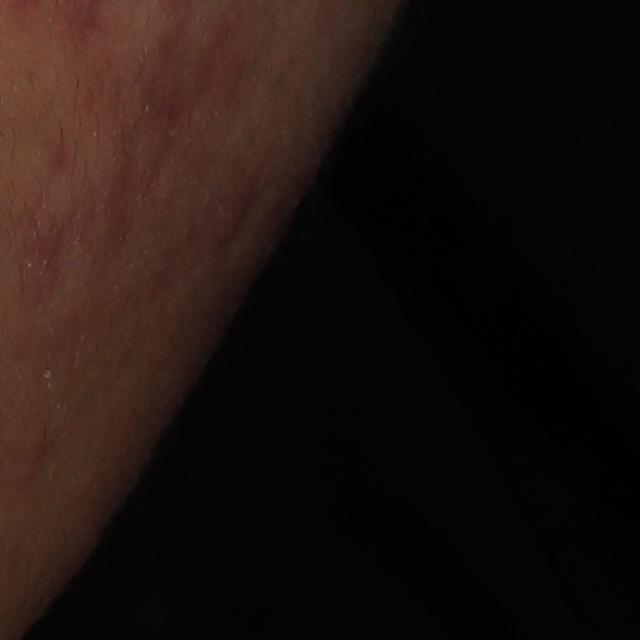papule: (205, 175, 260, 248)
